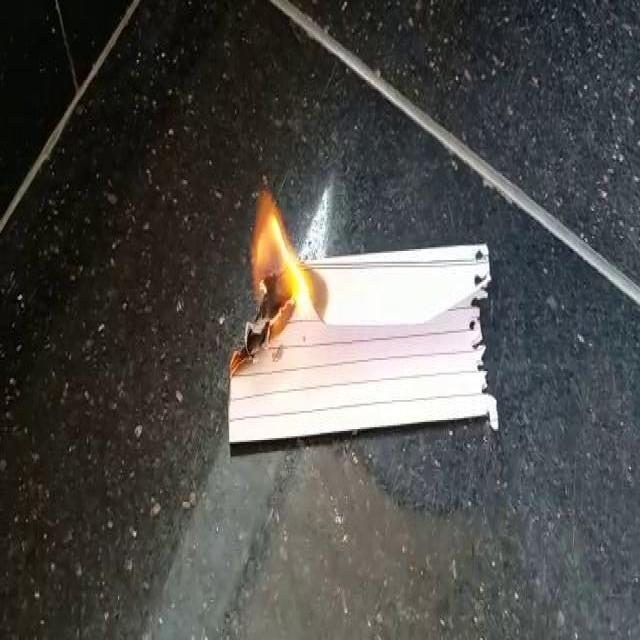fire: (251, 186, 315, 311)
